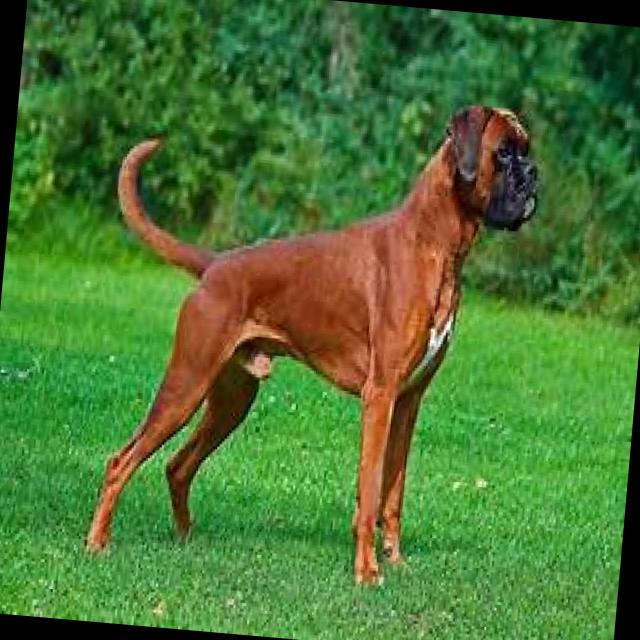animal: (78, 69, 544, 599)
